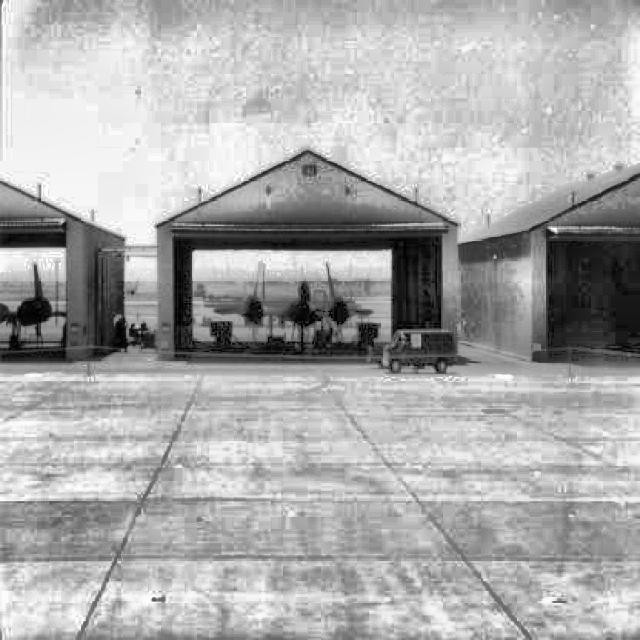SR71: (213, 260, 373, 352), (0, 262, 66, 347)
